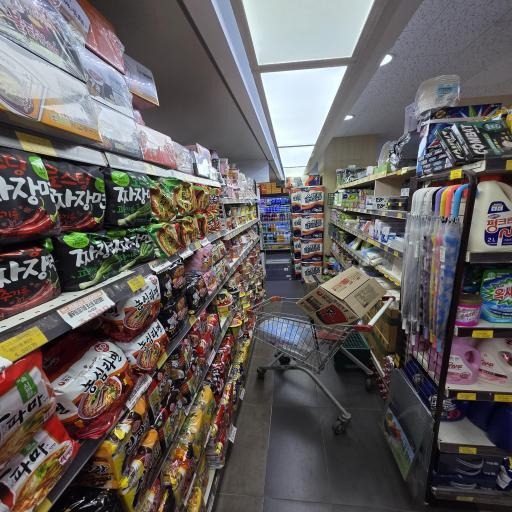fully_cart: (234, 250, 408, 434)
